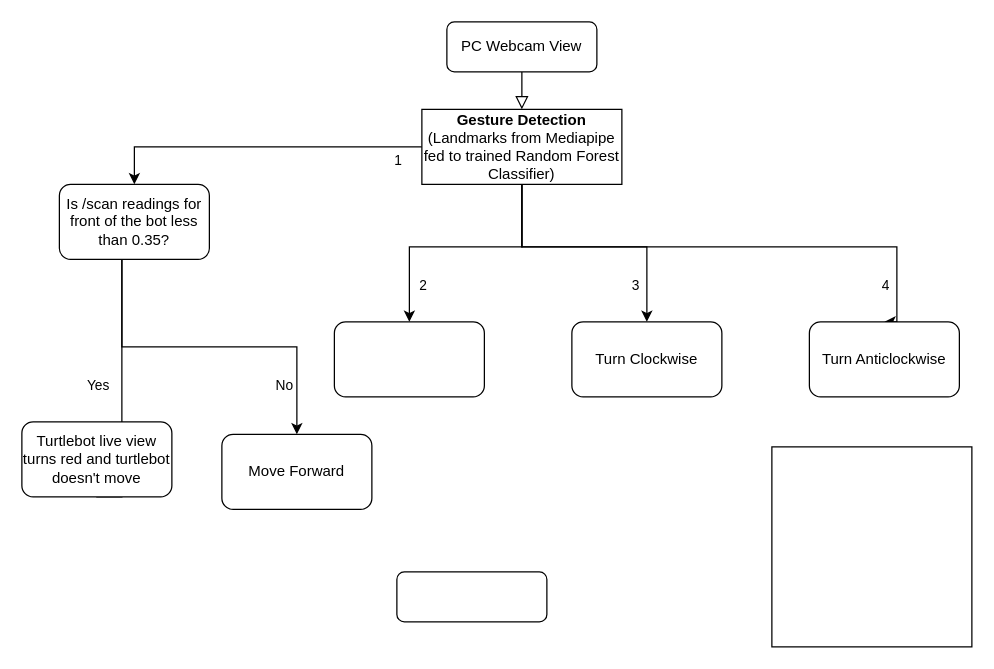
The diagram is 994 pixels wide and 669 high, and some of its shapes have lost their labels. Here are the shapes that lost their labels. From the top down, the box of each, then its label:
(333, 321, 484, 397): Move Backward
(771, 446, 972, 647): ROS Topics: 1. /cmd_velocity 2. /scan 3. /color/preview/image
(396, 571, 547, 622): ROS Node: TBDriver
